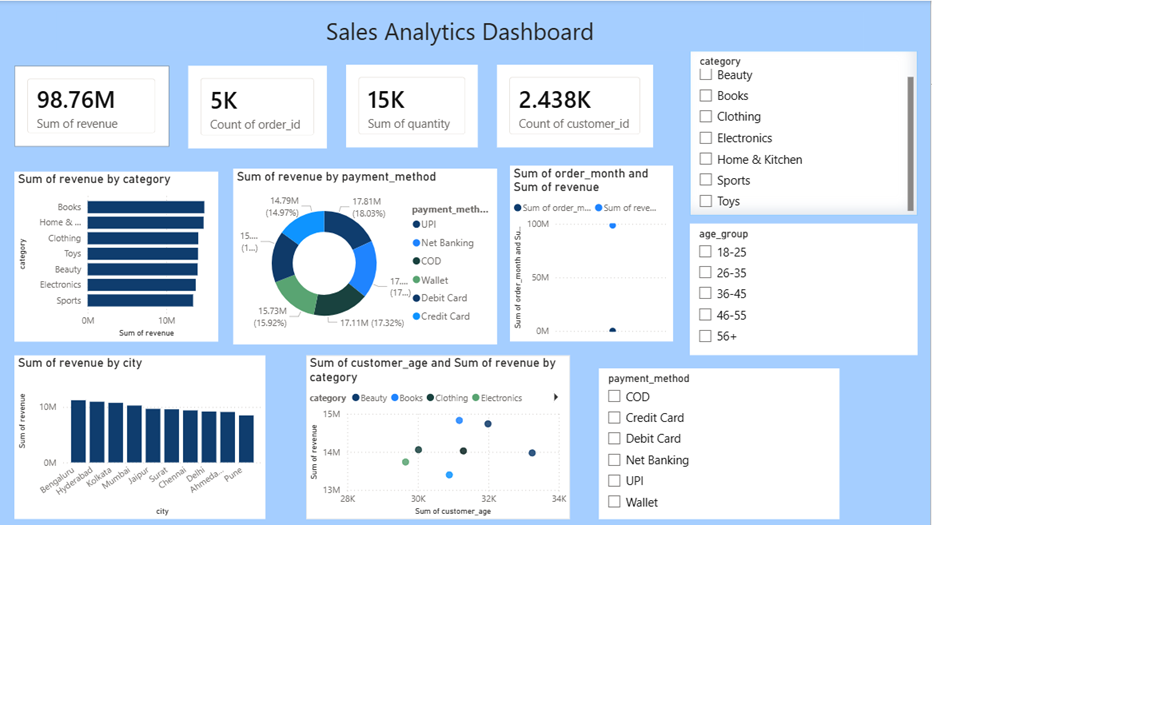

The page's visual inventory and layout, read from the dashboard file:
{"tool":"powerbi","page":{"name":"Page 1","canvas":[1280,720],"ordinal":0},"visuals":[{"type":"textbox","box":[79.6,15.1,1108.8,53.5],"z":0},{"type":"cardVisual","fields":{"Data":["Sum(cleaned_ecommerce_orders.revenue)"]},"box":[22,89.2,212.7,111.1],"z":1000},{"type":"cardVisual","fields":{"Data":["CountNonNull(cleaned_ecommerce_orders.order_id)"]},"box":[260.7,89.2,190.7,113.9],"z":2000},{"type":"cardVisual","fields":{"Data":["Sum(cleaned_ecommerce_orders.quantity)"]},"box":[477.5,87.8,181.1,113.9],"z":3000},{"type":"cardVisual","fields":{"Data":["Count(cleaned_ecommerce_orders.customer_id)"]},"box":[684.7,87.8,214.1,113.9],"z":4000},{"type":"clusteredBarChart","fields":{"Category":["cleaned_ecommerce_orders.category"],"Y":["Sum(cleaned_ecommerce_orders.revenue)"]},"box":[22,234.6,279.9,233.3],"z":5000},{"type":"donutChart","fields":{"Category":["cleaned_ecommerce_orders.payment_method"],"Y":["Sum(cleaned_ecommerce_orders.revenue)"]},"box":[322.5,230.5,362.3,241.5],"z":6000},{"type":"lineChart","fields":{"Y":["Sum(cleaned_ecommerce_orders.order_month)","Sum(cleaned_ecommerce_orders.revenue)"]},"box":[702.6,226.4,223.7,241.5],"z":7000},{"type":"lineClusteredColumnComboChart","fields":{"Category":["cleaned_ecommerce_orders.city"],"Y":["Sum(cleaned_ecommerce_orders.revenue)"]},"box":[22,487.1,344.4,225],"z":8000},{"type":"scatterChart","fields":{"X":["Sum(cleaned_ecommerce_orders.customer_age)"],"Y":["Sum(cleaned_ecommerce_orders.revenue)"],"Series":["cleaned_ecommerce_orders.category"]},"box":[422.6,487.1,362.3,225],"z":9000},{"type":"slicer","fields":{"Values":["cleaned_ecommerce_orders.category"]},"box":[949.6,68.6,312.9,226.4],"z":10000},{"type":"slicer","fields":{"Values":["cleaned_ecommerce_orders.payment_method"]},"box":[824.7,505,330.7,207.2],"z":11000},{"type":"slicer","fields":{"Values":["cleaned_ecommerce_orders.age_group"]},"box":[949.6,306,312.9,181.1],"z":12000}]}

Visuals, with their boxes on the page's 1280x720 design canvas (x1, y1, x2, y2). These are canvas units, not pixel positions in the 1152x720 screenshot, which may show the page scaled, cropped or inside an application window:
textbox: (left=80, top=15, right=1188, bottom=69)
cardVisual - Sum(cleaned_ecommerce_orders.revenue): (left=22, top=89, right=235, bottom=200)
cardVisual - CountNonNull(cleaned_ecommerce_orders.order_id): (left=261, top=89, right=451, bottom=203)
cardVisual - Sum(cleaned_ecommerce_orders.quantity): (left=478, top=88, right=659, bottom=202)
cardVisual - Count(cleaned_ecommerce_orders.customer_id): (left=685, top=88, right=899, bottom=202)
clusteredBarChart - cleaned_ecommerce_orders.category x Sum(cleaned_ecommerce_orders.revenue): (left=22, top=235, right=302, bottom=468)
donutChart - cleaned_ecommerce_orders.payment_method x Sum(cleaned_ecommerce_orders.revenue): (left=322, top=230, right=685, bottom=472)
lineChart - Sum(cleaned_ecommerce_orders.order_month) x Sum(cleaned_ecommerce_orders.revenue): (left=703, top=226, right=926, bottom=468)
lineClusteredColumnComboChart - cleaned_ecommerce_orders.city x Sum(cleaned_ecommerce_orders.revenue): (left=22, top=487, right=366, bottom=712)
scatterChart - Sum(cleaned_ecommerce_orders.customer_age) x Sum(cleaned_ecommerce_orders.revenue): (left=423, top=487, right=785, bottom=712)
slicer - cleaned_ecommerce_orders.category: (left=950, top=69, right=1262, bottom=295)
slicer - cleaned_ecommerce_orders.payment_method: (left=825, top=505, right=1155, bottom=712)
slicer - cleaned_ecommerce_orders.age_group: (left=950, top=306, right=1262, bottom=487)
